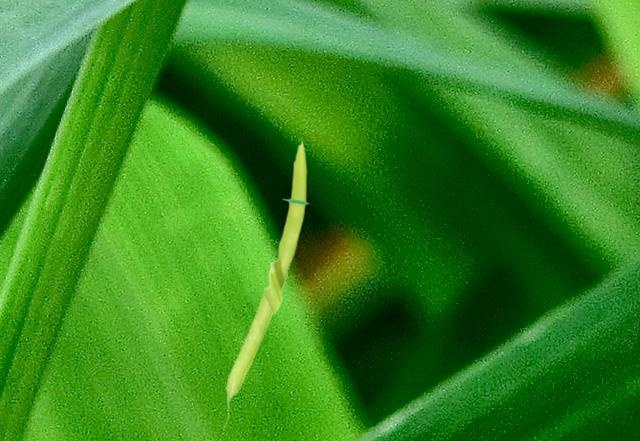french_bean: (222, 137, 309, 430)
